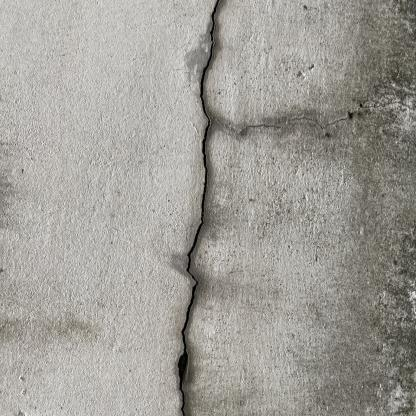crack: (177, 0, 220, 415)
